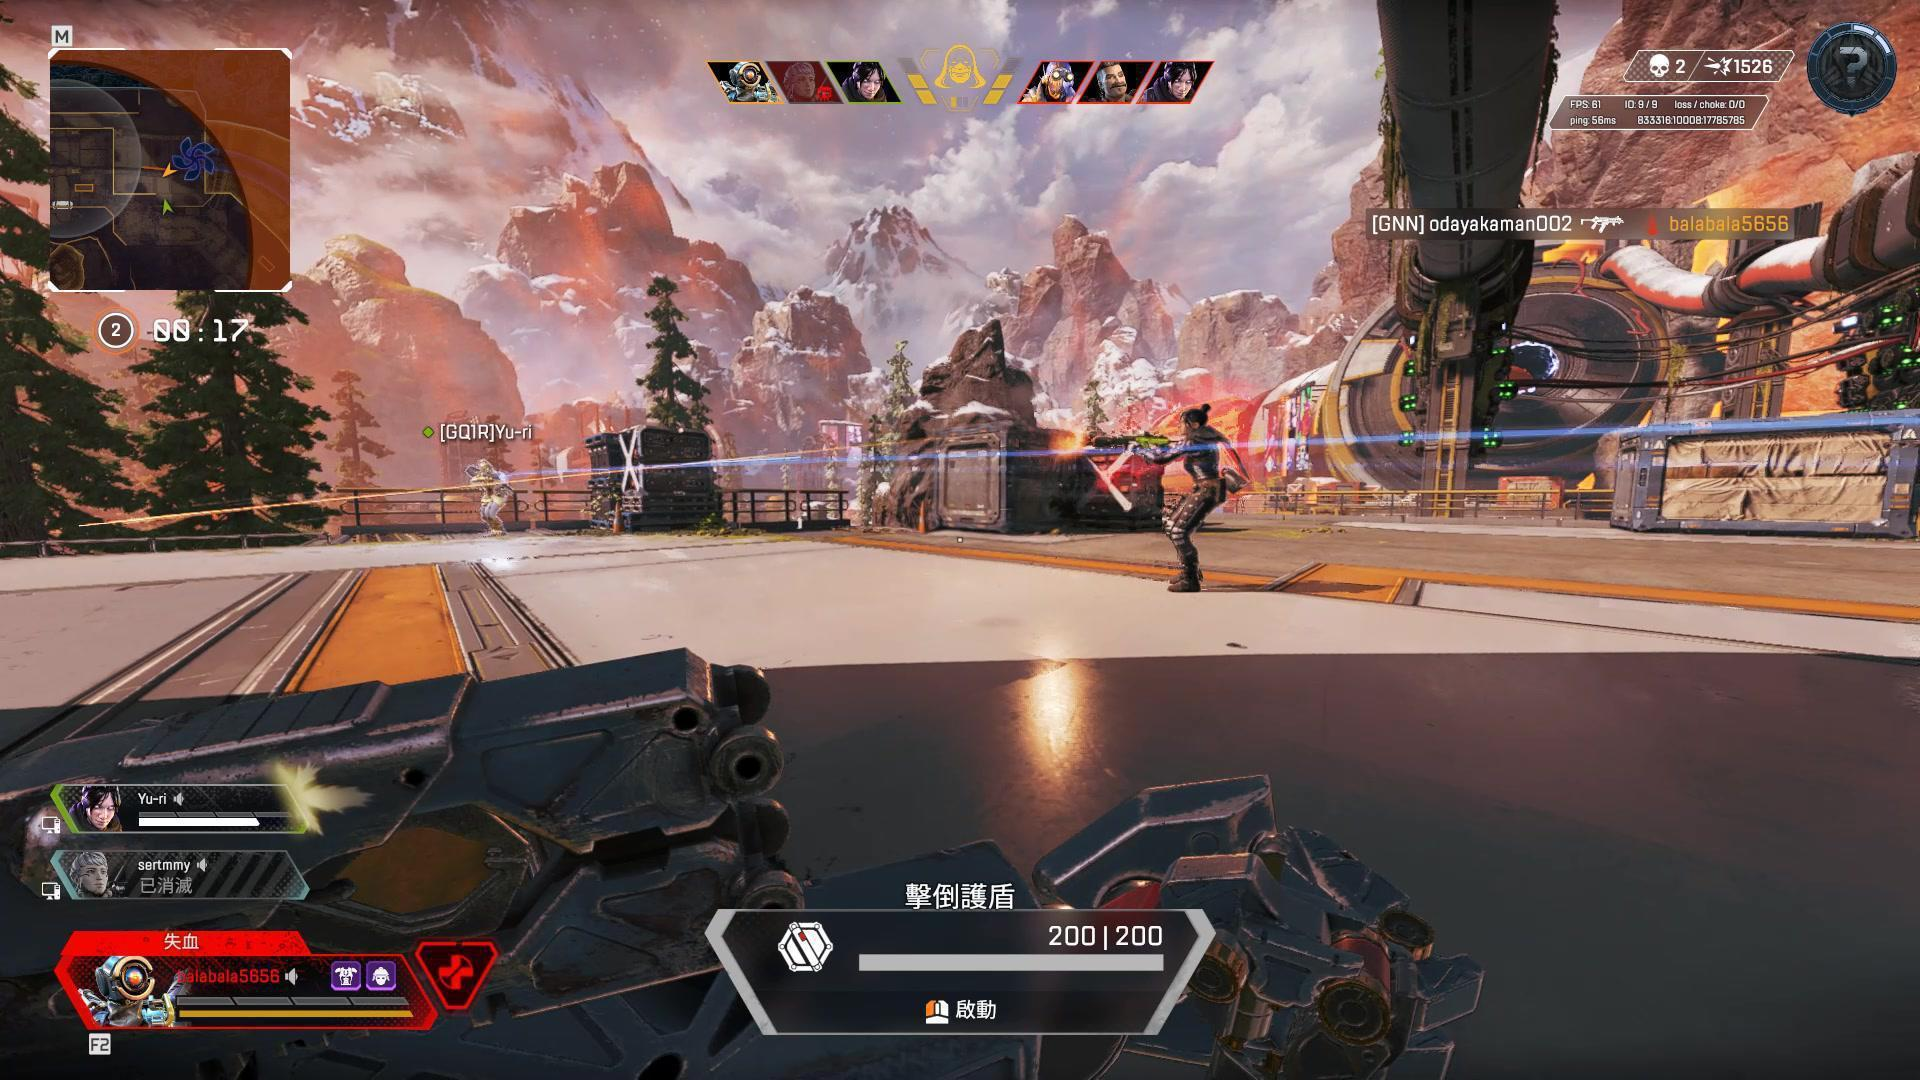avatar: (1158, 401, 1229, 595), (468, 457, 512, 538)
